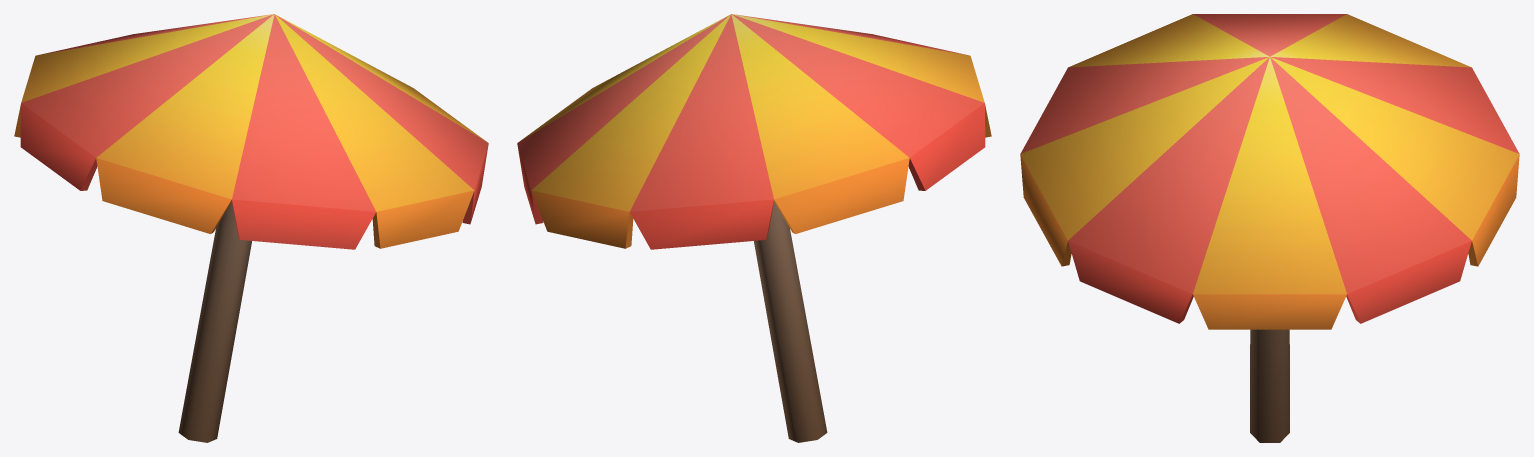
Rendered from Asset_BeachUmbrella.glb.
The picture shows the model from 3 angles, left to right: view 1: azimuth 30°, elevation 25°; view 2: azimuth 150°, elevation 25°; view 3: azimuth 270°, elevation 25°; orthographic projection. The views are drawn at different scales.
Parts seen in each view (by area): view 1: Mesh.004; view 2: Mesh.004; view 3: Mesh.004.
Part boxes in pixels (x1,y1,x2,y2): Mesh.004: [14, 14, 488, 442]; Mesh.004: [517, 14, 991, 442]; Mesh.004: [1020, 14, 1519, 442].
Size of what is drawn, in the model's own units: 2.52 by 2.44 by 2.64.
1 material, 1 textured.
